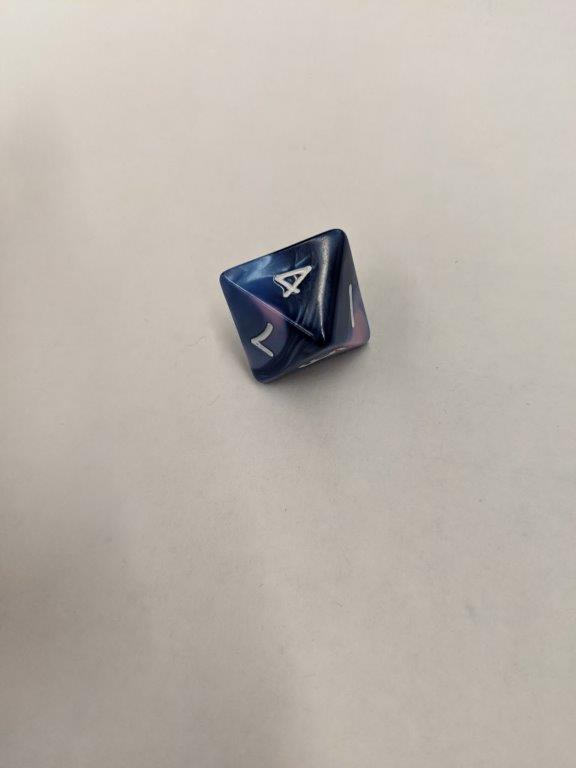d8-4: (221, 226, 375, 387)
